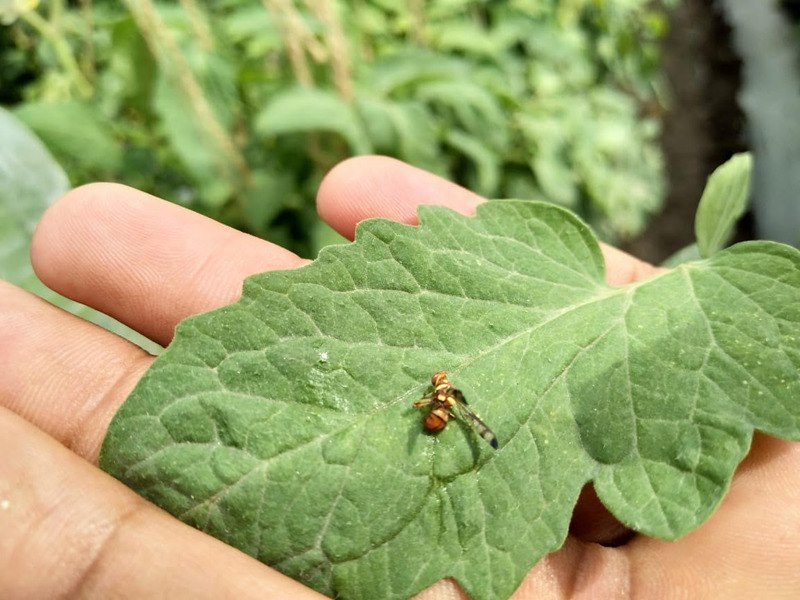Fruit fly: (385, 355, 526, 458)
